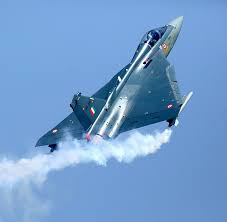fighter: (32, 13, 193, 154)
